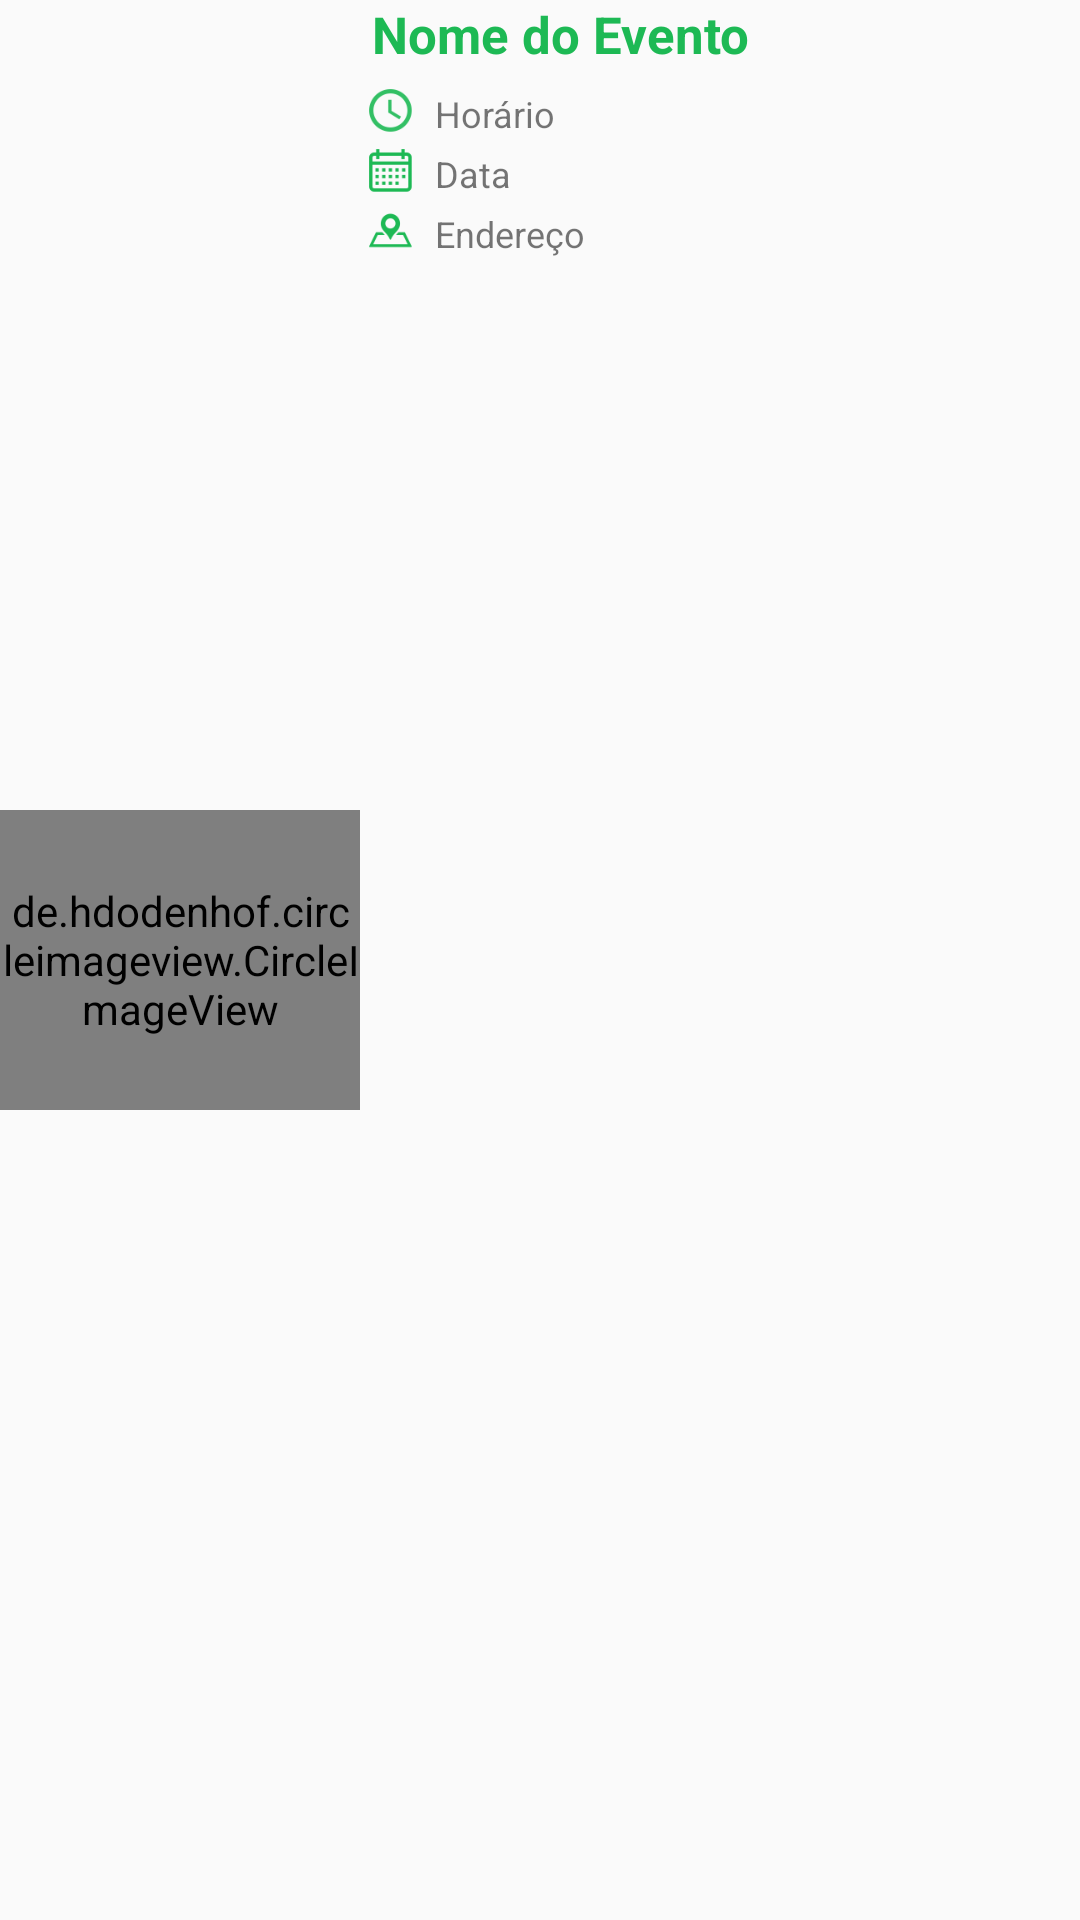

Point at icon controls on the screen. Image size 1080*1920, points as (x=x, y=y).
date event: (x=390, y=170)
hour event: (x=390, y=110)
local event: (x=390, y=230)
